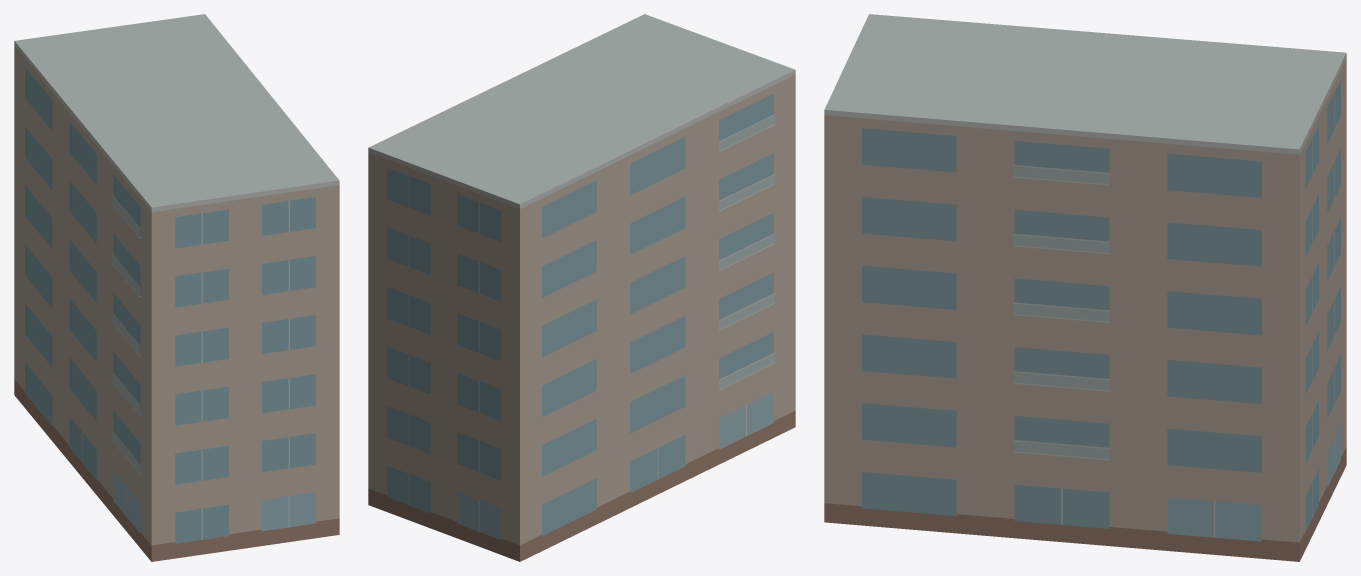
The model's file is survey-upis-33020400.glb.
3 views of the same model, side by side, from view 1: azimuth 30°, elevation 25°; view 2: azimuth 150°, elevation 25°; view 3: azimuth 270°, elevation 25° (orthographic). The views are drawn at different scales.
Visible parts, largest first — view 1: survey-upis-33020400.tmp; view 2: survey-upis-33020400.tmp; view 3: survey-upis-33020400.tmp.
Boxes of the visible parts, x1,y1,x2,y2 form: survey-upis-33020400.tmp: (14,14,339,561); survey-upis-33020400.tmp: (368,14,795,561); survey-upis-33020400.tmp: (824,14,1346,561).
Size of the model in its own units: 12.97 by 18.4 by 21.13.
